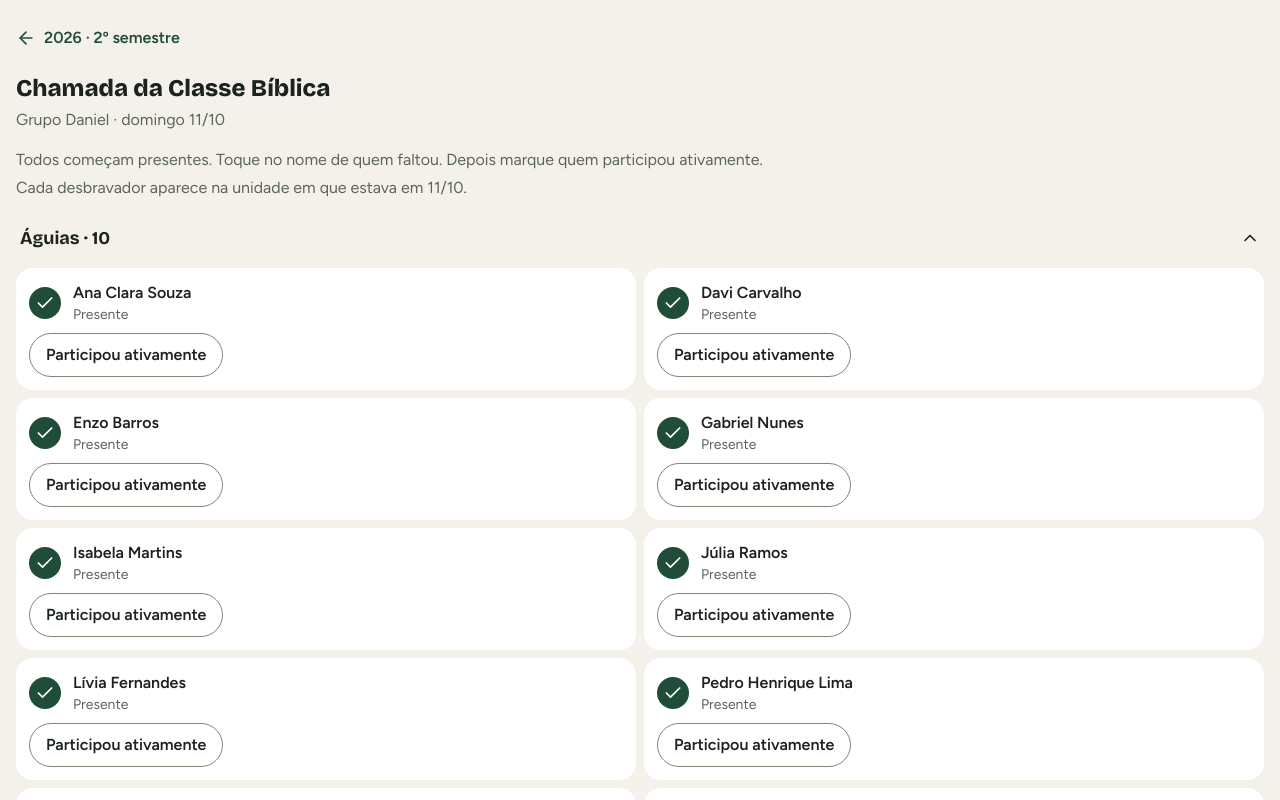
Test case: Chamada com conexão › tocar no nome alterna Faltou e trava a participação; tocar de novo volta a Presente
The width and height of the screenshot is (1280, 800).
Expected: the text "Enzo Barros" is shown, [73, 411, 159, 435]
Click the 3rd button "Participou ativamente".
click(126, 485)  # box [29, 463, 223, 507]
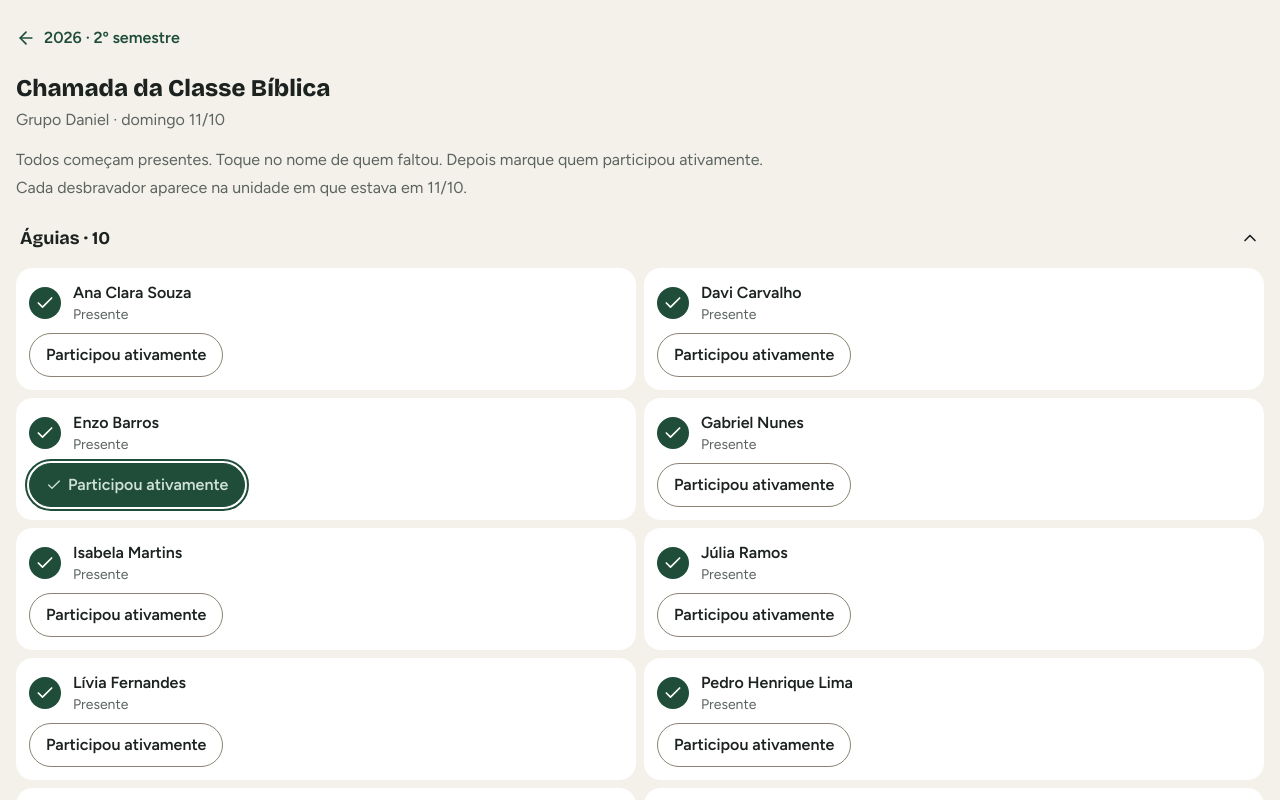
Now the 3rd button "Participou ativamente" is pressed, box [29, 463, 245, 507]
Click the button "Enzo Barros Presente".
click(45, 433)  # box [29, 411, 623, 455]
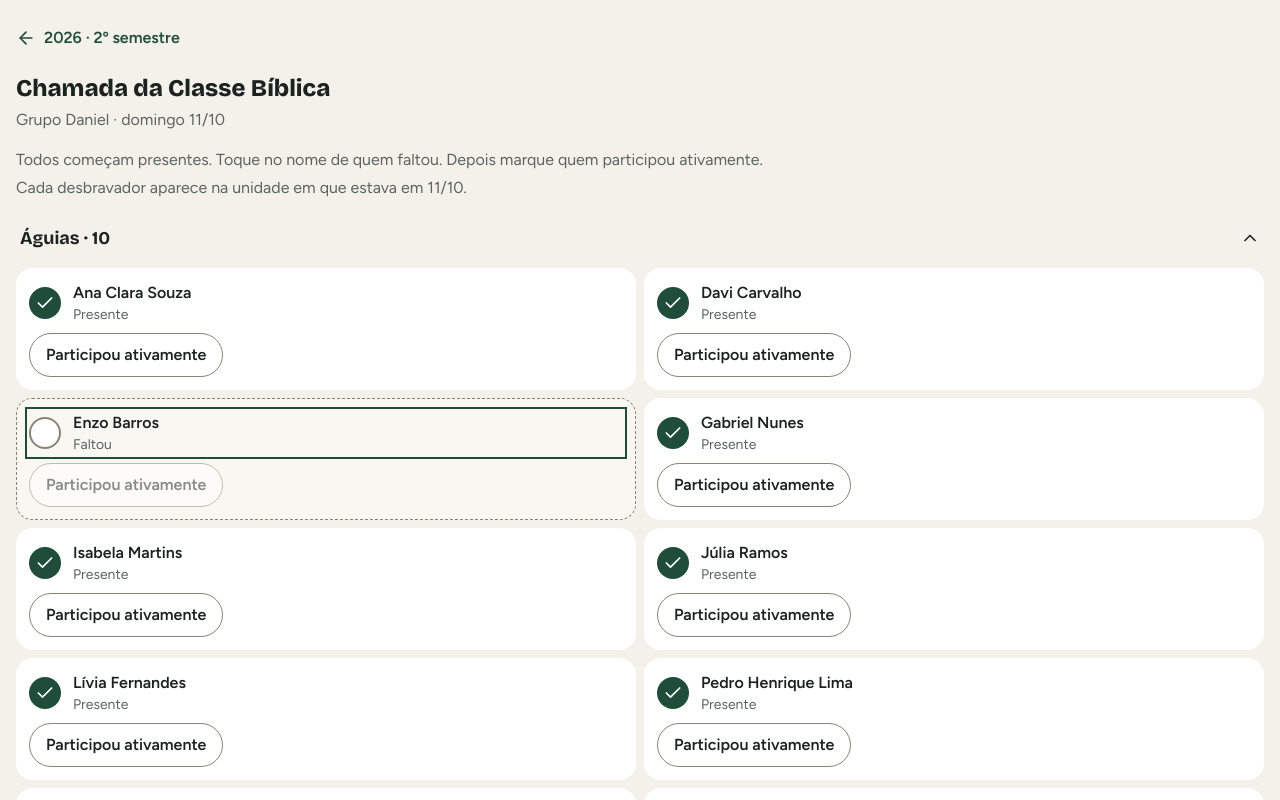
Now the text "Faltou" is shown, box [73, 436, 112, 453]
Now the button with aria-label "Participou ativamente: indisponível porque Enzo faltou" is disabled, box [29, 463, 223, 507]
Click the button "Enzo Barros Faltou".
click(45, 433)  # box [29, 411, 623, 455]
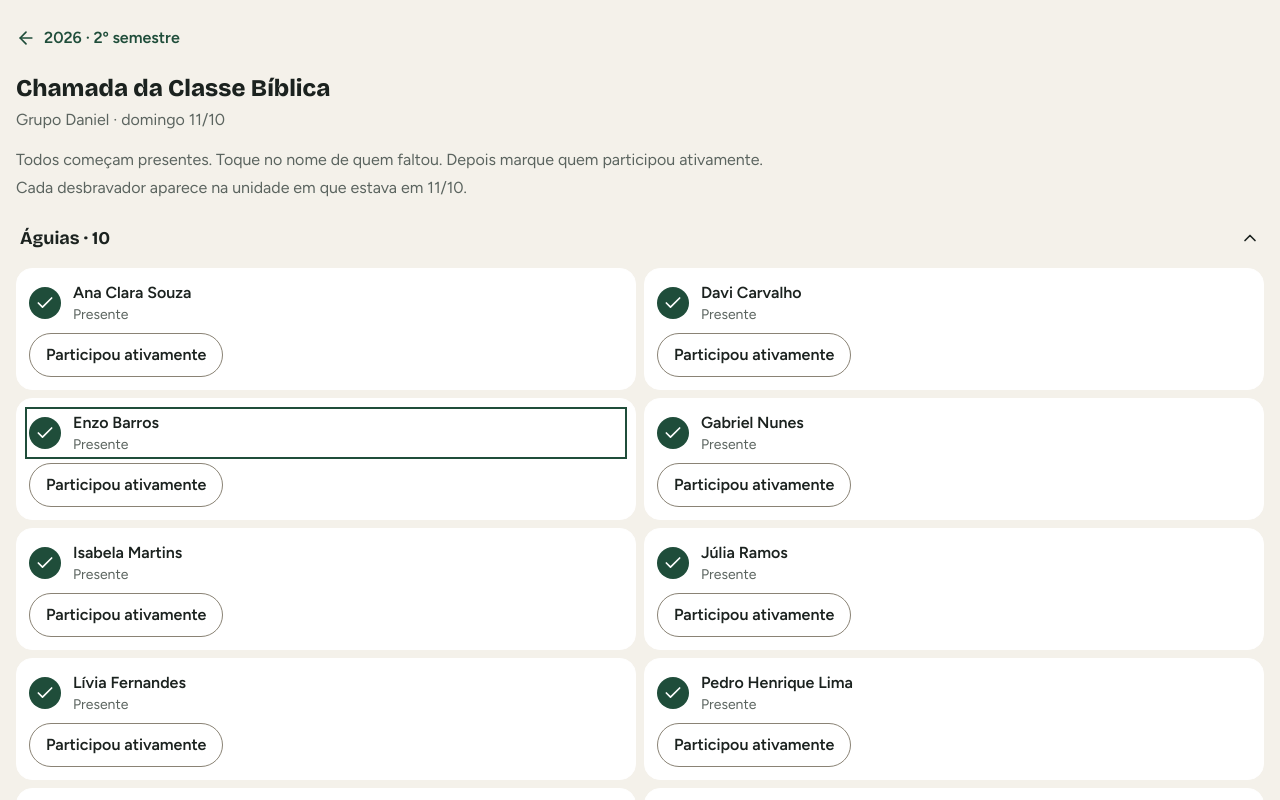
Now the 3rd text "Presente" is shown, box [73, 436, 128, 453]
Now the 3rd button "Participou ativamente" is enabled, box [29, 463, 223, 507]
